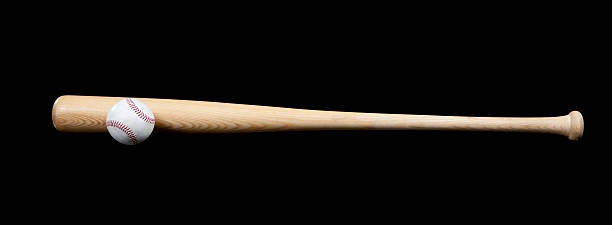bita: (50, 94, 589, 139)
